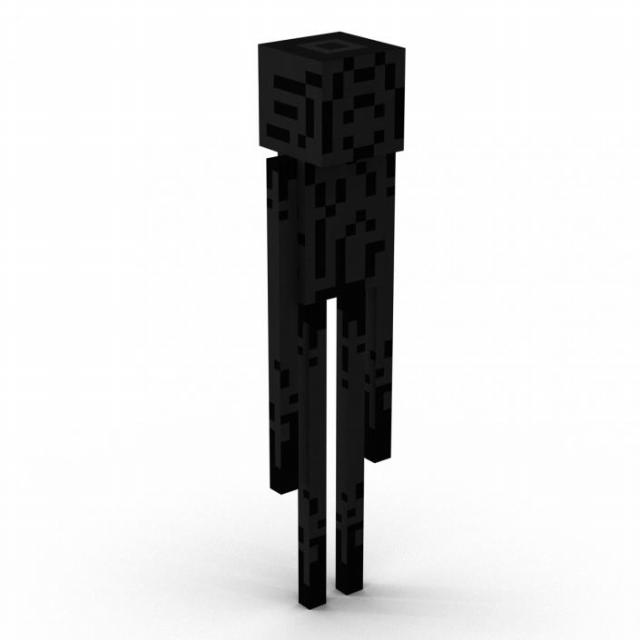Enderman: (249, 11, 422, 612)
